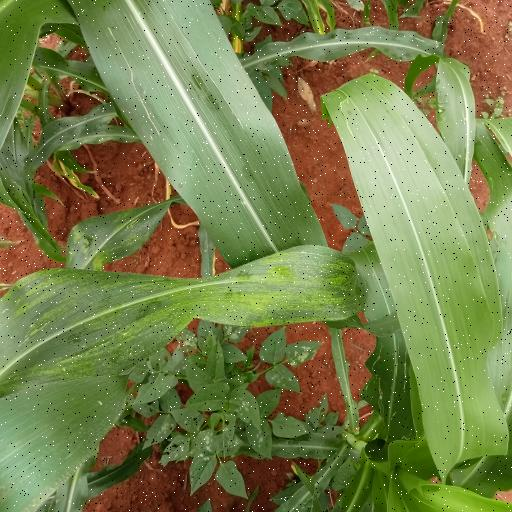Corn_Brown_Spots: (9, 246, 349, 399)
